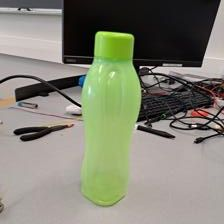bottle: (73, 29, 141, 208)
